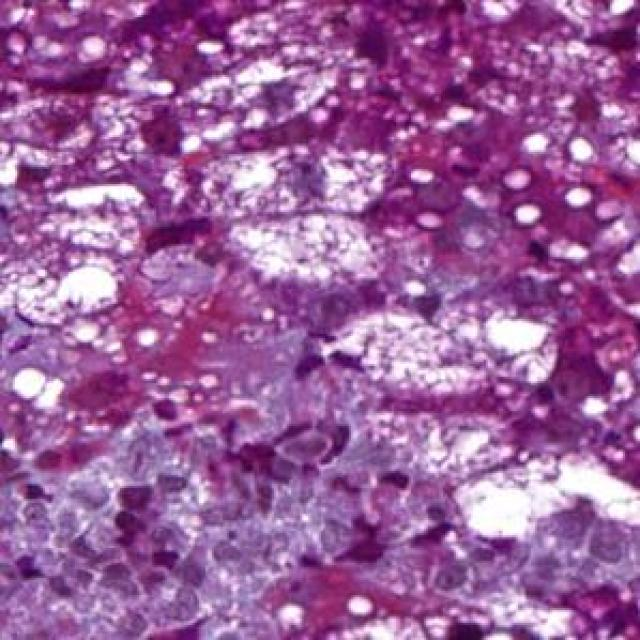ballooning: (229, 208, 392, 302), (462, 310, 568, 400)
